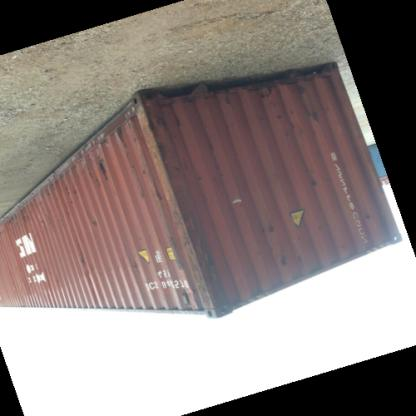Damage: (166, 189, 227, 315), (148, 83, 184, 167), (16, 190, 62, 240), (274, 106, 328, 140), (112, 113, 140, 167), (82, 147, 110, 195), (204, 135, 234, 177), (273, 249, 313, 272), (250, 219, 284, 244), (242, 82, 274, 106), (76, 244, 92, 291), (150, 173, 164, 209), (304, 176, 322, 200), (357, 209, 375, 233), (291, 79, 309, 100), (130, 253, 144, 279), (90, 218, 100, 235)
